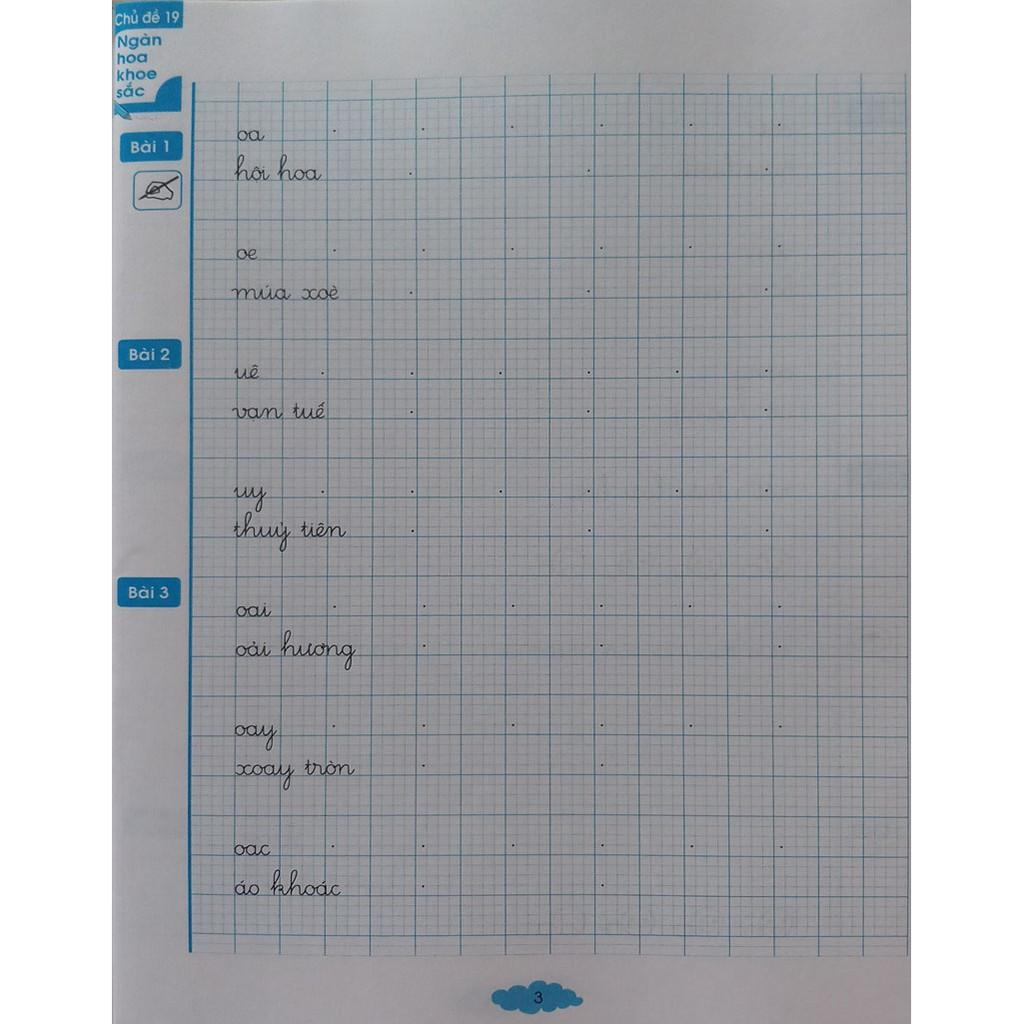text: (230, 626, 359, 674), (230, 507, 349, 557), (231, 754, 357, 796), (231, 866, 346, 901), (233, 150, 324, 186), (227, 280, 340, 304), (230, 400, 329, 426), (113, 4, 183, 31), (233, 720, 279, 756), (231, 483, 269, 516), (117, 27, 163, 53), (127, 134, 171, 159), (124, 344, 171, 366), (123, 583, 171, 603), (114, 63, 159, 84), (231, 841, 274, 861), (234, 599, 273, 621), (113, 49, 151, 69), (116, 79, 147, 101), (231, 363, 260, 383), (234, 126, 266, 144), (233, 241, 257, 264), (529, 986, 550, 1007)
